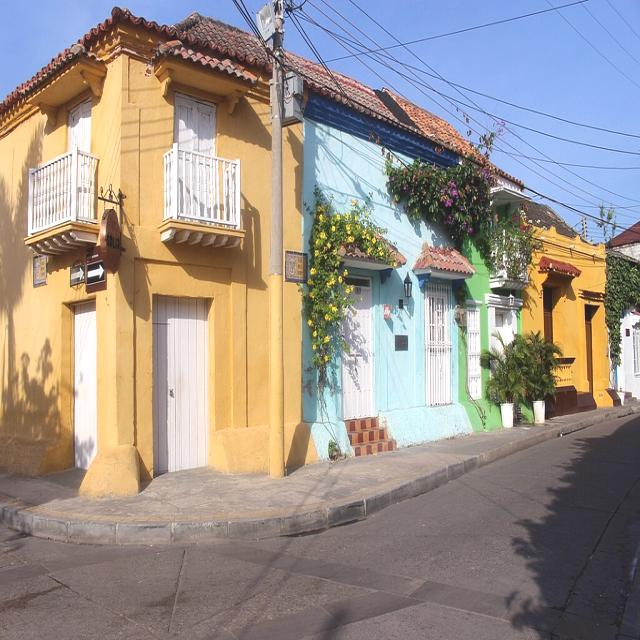fachada: (283, 54, 532, 467), (522, 202, 617, 415), (612, 299, 639, 398)
poste: (269, 0, 284, 477)
